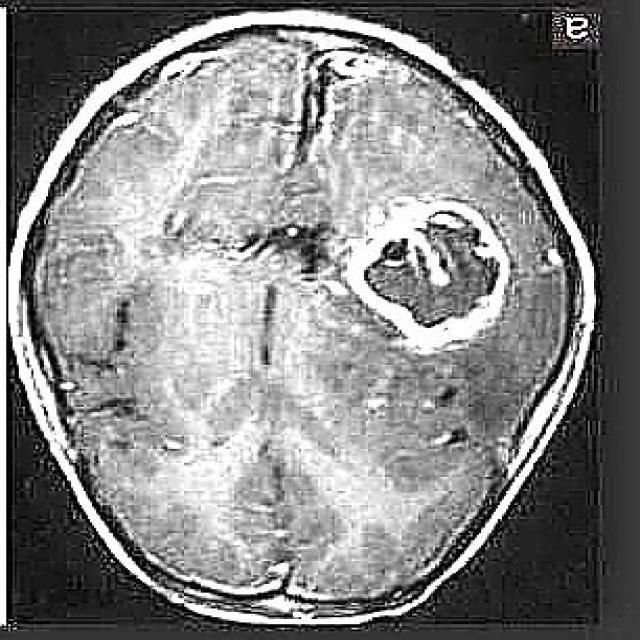Tumor: (345, 200, 512, 347)
